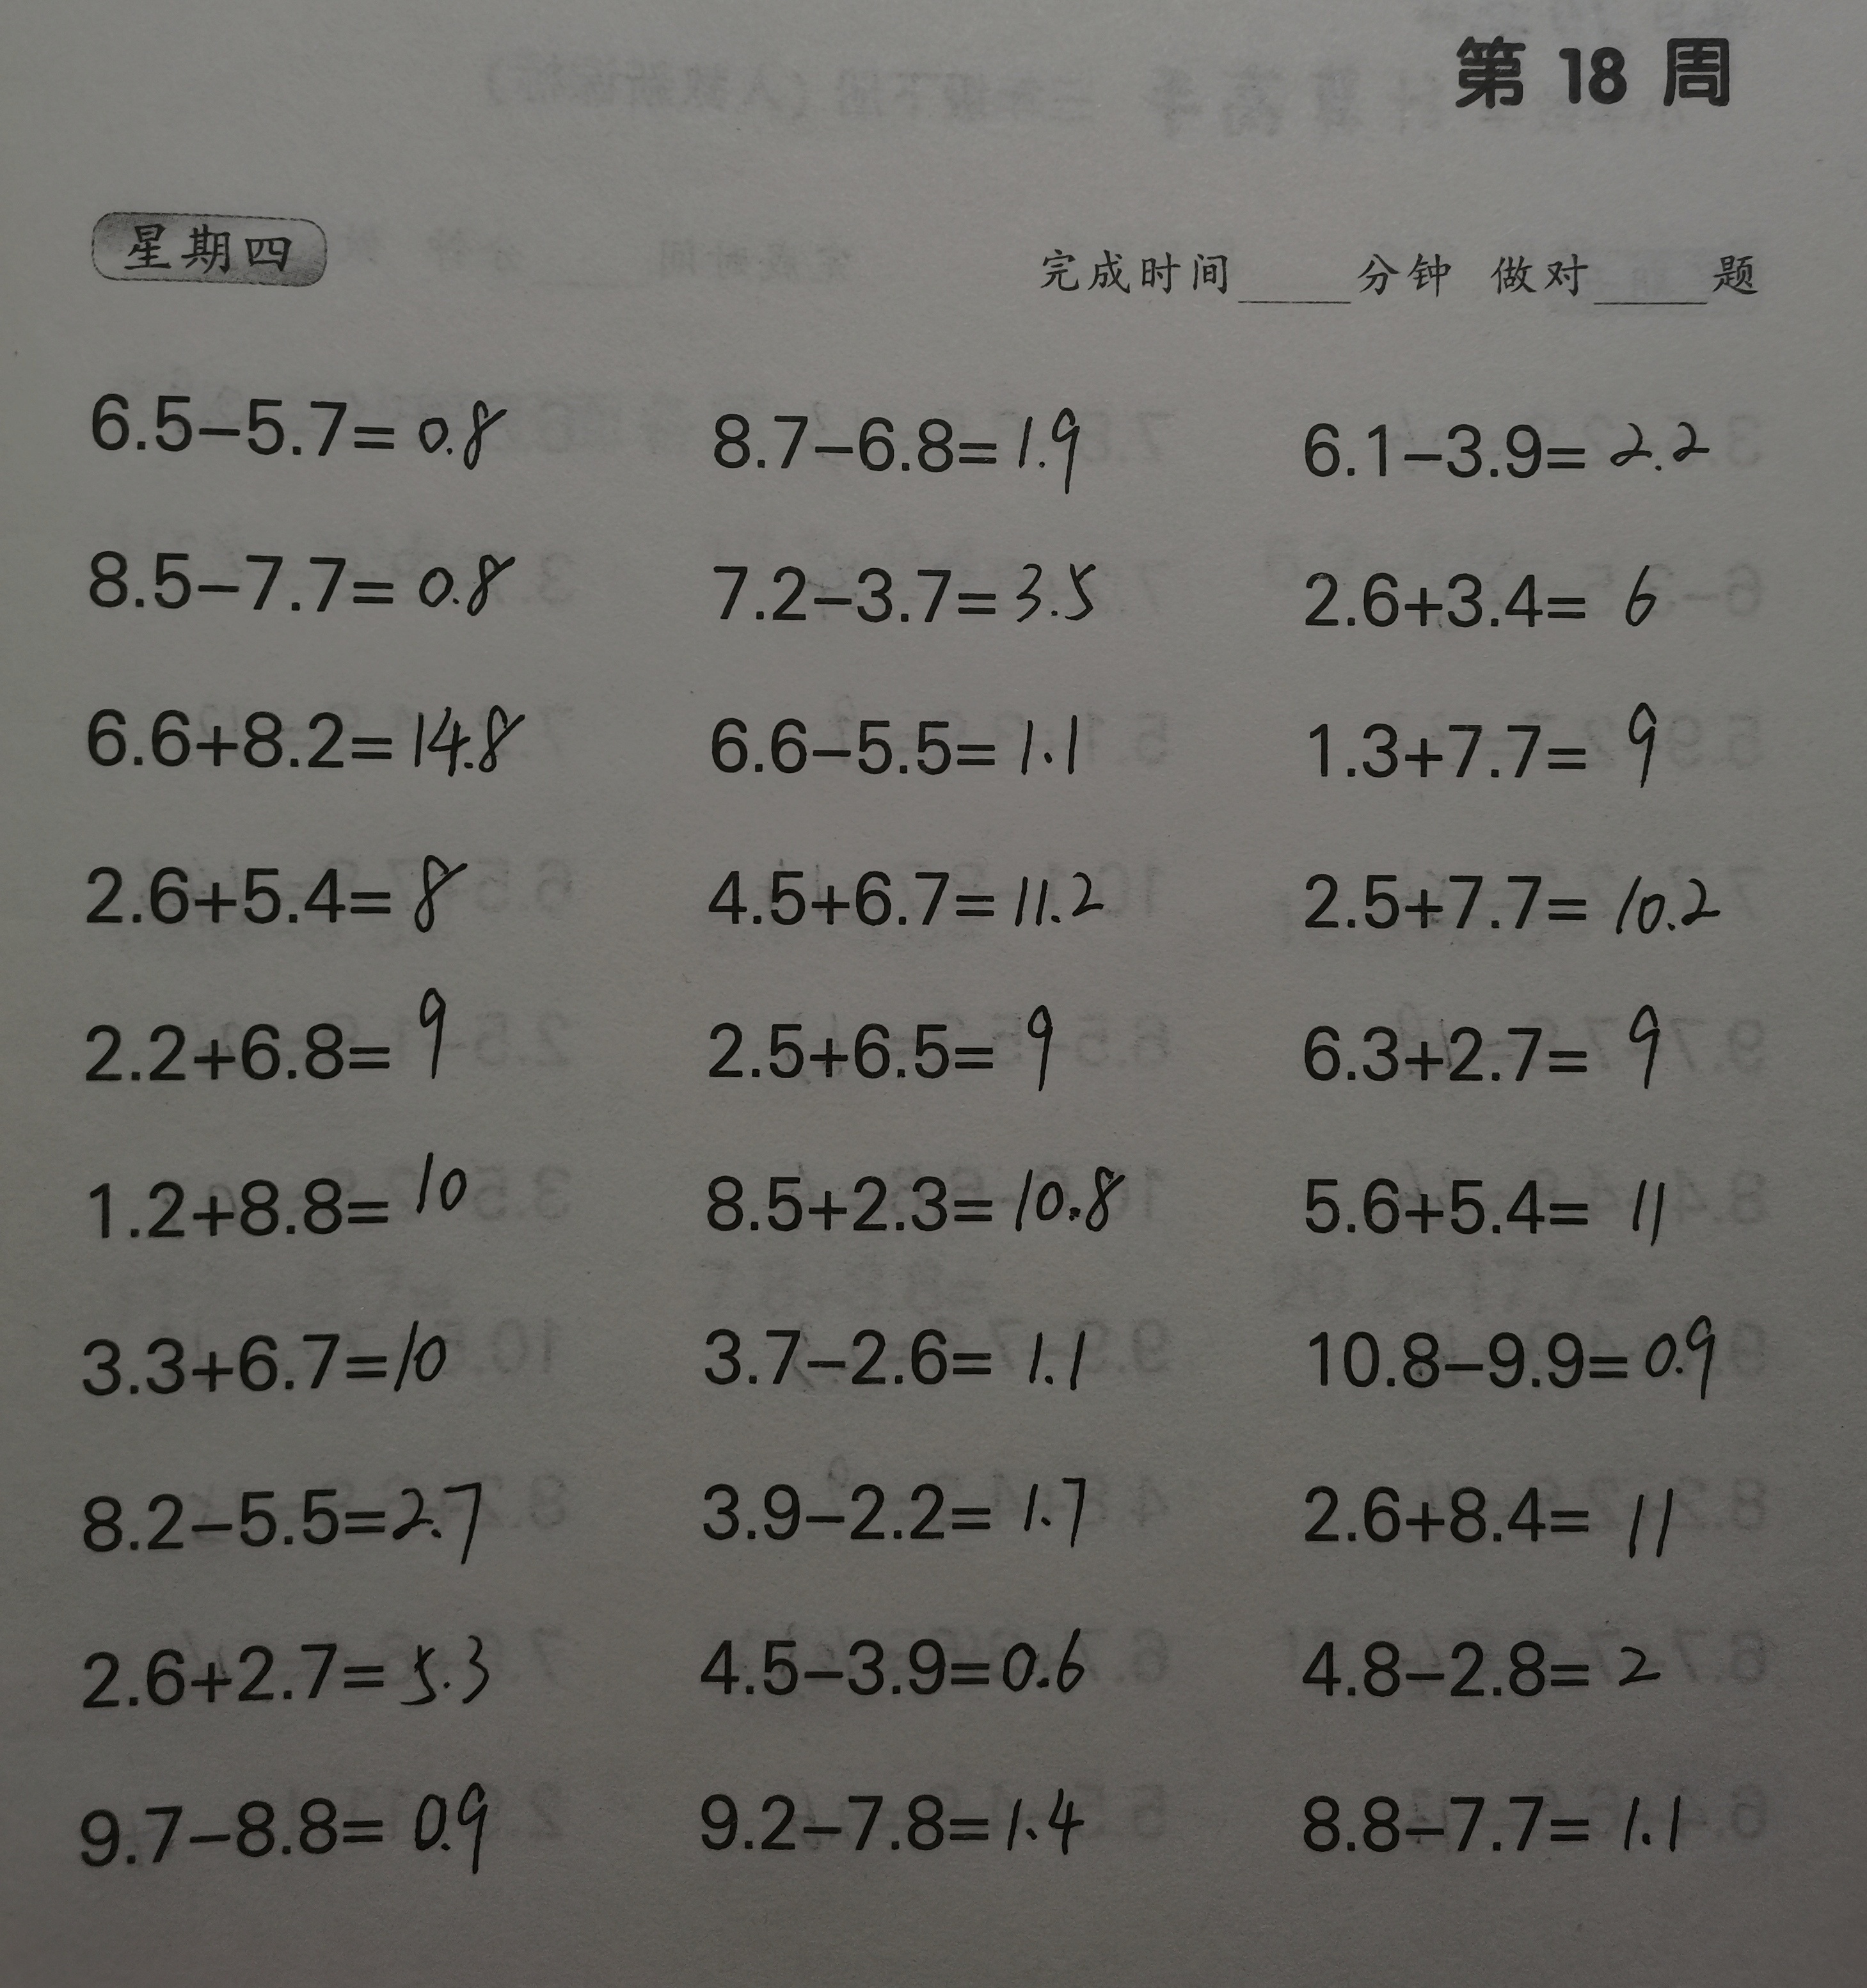equation: (72, 1763, 512, 1900), (67, 676, 546, 795), (1276, 1762, 1737, 1884), (1291, 825, 1746, 949), (695, 1442, 1118, 1572), (695, 1132, 1141, 1255), (56, 1453, 512, 1572), (1291, 381, 1744, 495), (68, 361, 511, 477), (700, 672, 1111, 797), (1284, 1446, 1704, 1567), (697, 835, 1132, 951), (1295, 1298, 1749, 1409), (74, 523, 526, 633), (63, 1614, 523, 1723), (693, 1295, 1130, 1409), (707, 361, 1098, 488), (65, 1305, 488, 1421), (65, 974, 463, 1097), (75, 825, 483, 944), (683, 1760, 1105, 1870), (84, 1137, 493, 1249), (1284, 533, 1679, 649), (1293, 1153, 1700, 1265), (1293, 681, 1685, 797), (690, 1609, 1111, 1716), (698, 983, 1076, 1102), (1290, 1607, 1697, 1714), (1293, 988, 1681, 1098), (705, 528, 1114, 632)
